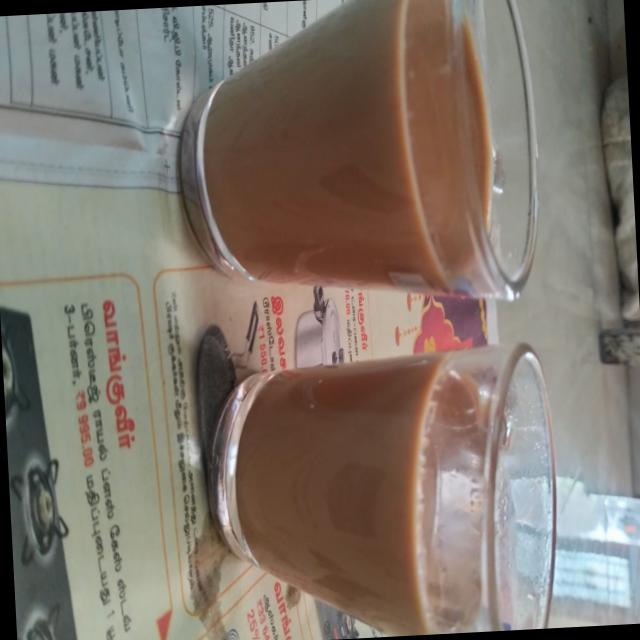glass-VX4N: (172, 0, 544, 324), (199, 339, 566, 640)
